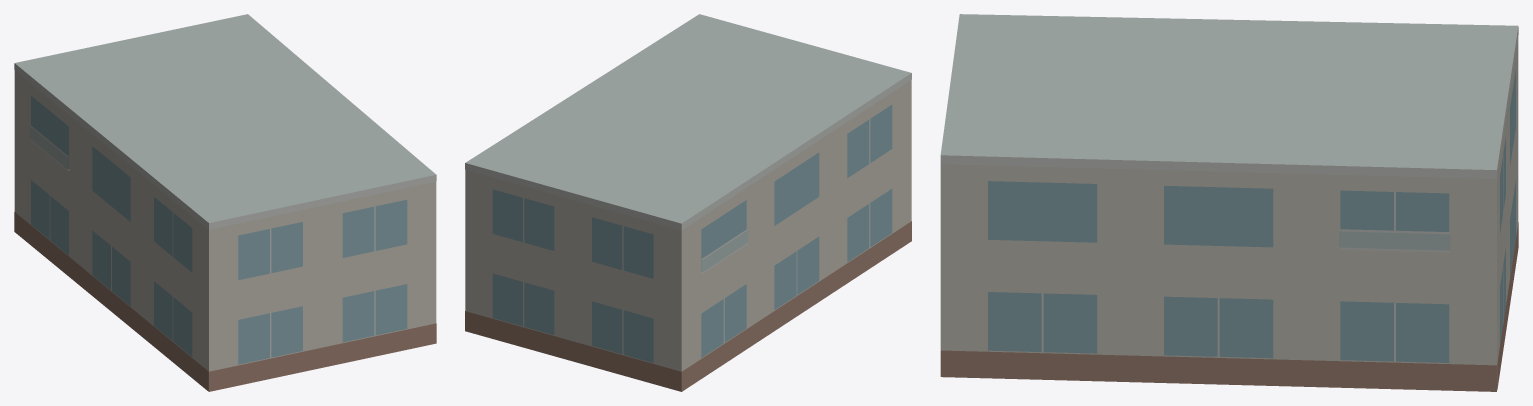
File: survey-upis-32797763.glb
3 views of the same model, side by side, from view 1: azimuth 30°, elevation 25°; view 2: azimuth 150°, elevation 25°; view 3: azimuth 270°, elevation 25° (orthographic). The views are drawn at different scales.
Visible parts, largest first — view 1: survey-upis-32797763.tmp; view 2: survey-upis-32797763.tmp; view 3: survey-upis-32797763.tmp.
Part boxes in pixels (x1,y1,x2,y2): survey-upis-32797763.tmp: (14,14,436,391); survey-upis-32797763.tmp: (465,14,911,391); survey-upis-32797763.tmp: (940,14,1518,391).
Bounding box in the file's own units: 9.22 × 6.1 × 14.42.
